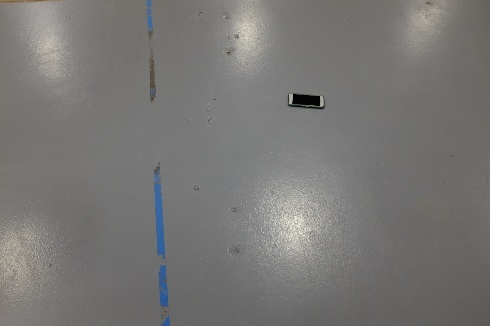phone: (282, 84, 331, 116)
